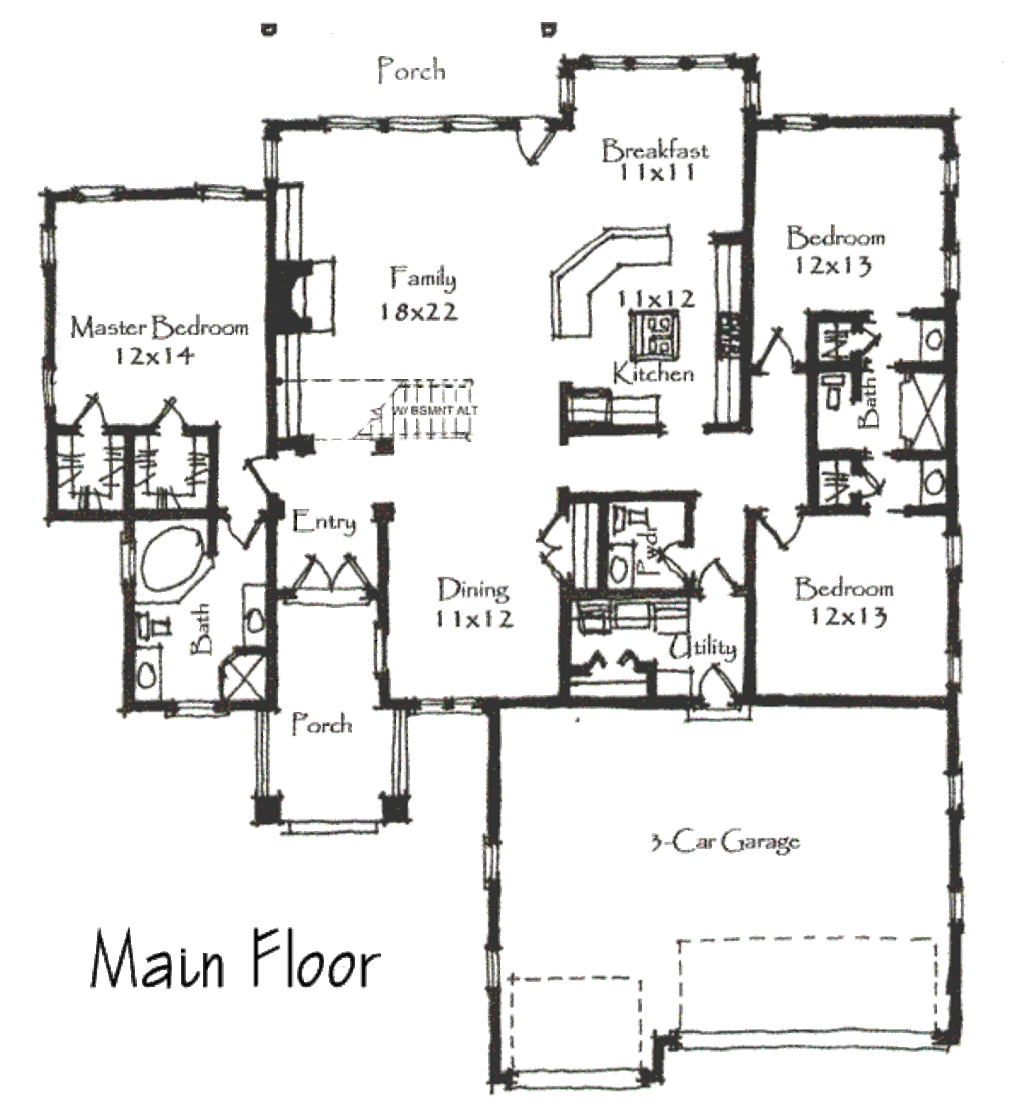door: (289, 544, 373, 605), (233, 440, 297, 503), (739, 306, 795, 378), (656, 535, 721, 593), (531, 506, 578, 584), (65, 391, 129, 444), (753, 508, 807, 556), (146, 395, 207, 437), (511, 120, 561, 166), (855, 457, 892, 512), (694, 654, 734, 700), (692, 554, 739, 593), (221, 508, 263, 551), (853, 322, 880, 354)
kitchen_bar: (531, 220, 692, 373)
large_sink: (812, 366, 863, 427), (605, 498, 660, 540), (136, 603, 189, 645)
small_sink: (902, 461, 951, 512), (126, 642, 168, 701), (599, 540, 644, 591), (907, 312, 953, 356)
stairs: (266, 357, 500, 481)
tub: (131, 523, 214, 603)
window: (317, 106, 512, 137), (566, 51, 751, 73), (190, 174, 250, 206), (68, 171, 117, 205), (34, 218, 61, 257)
